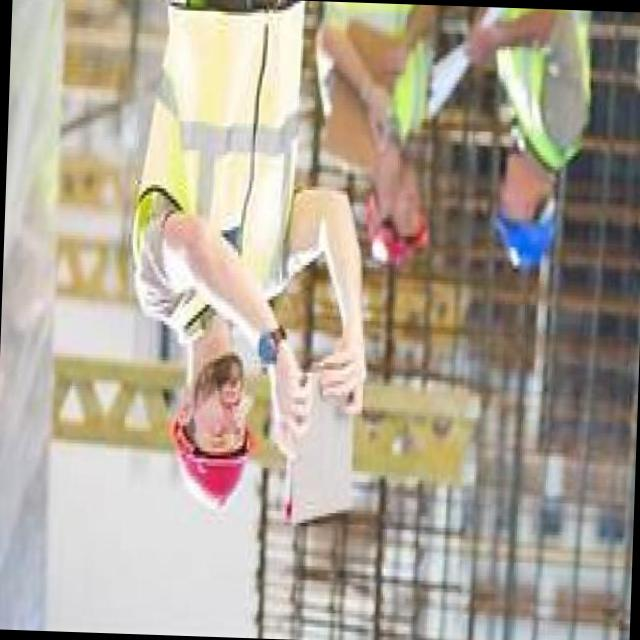not-gloved: (258, 338, 312, 462), (315, 314, 369, 431), (354, 84, 389, 152)
